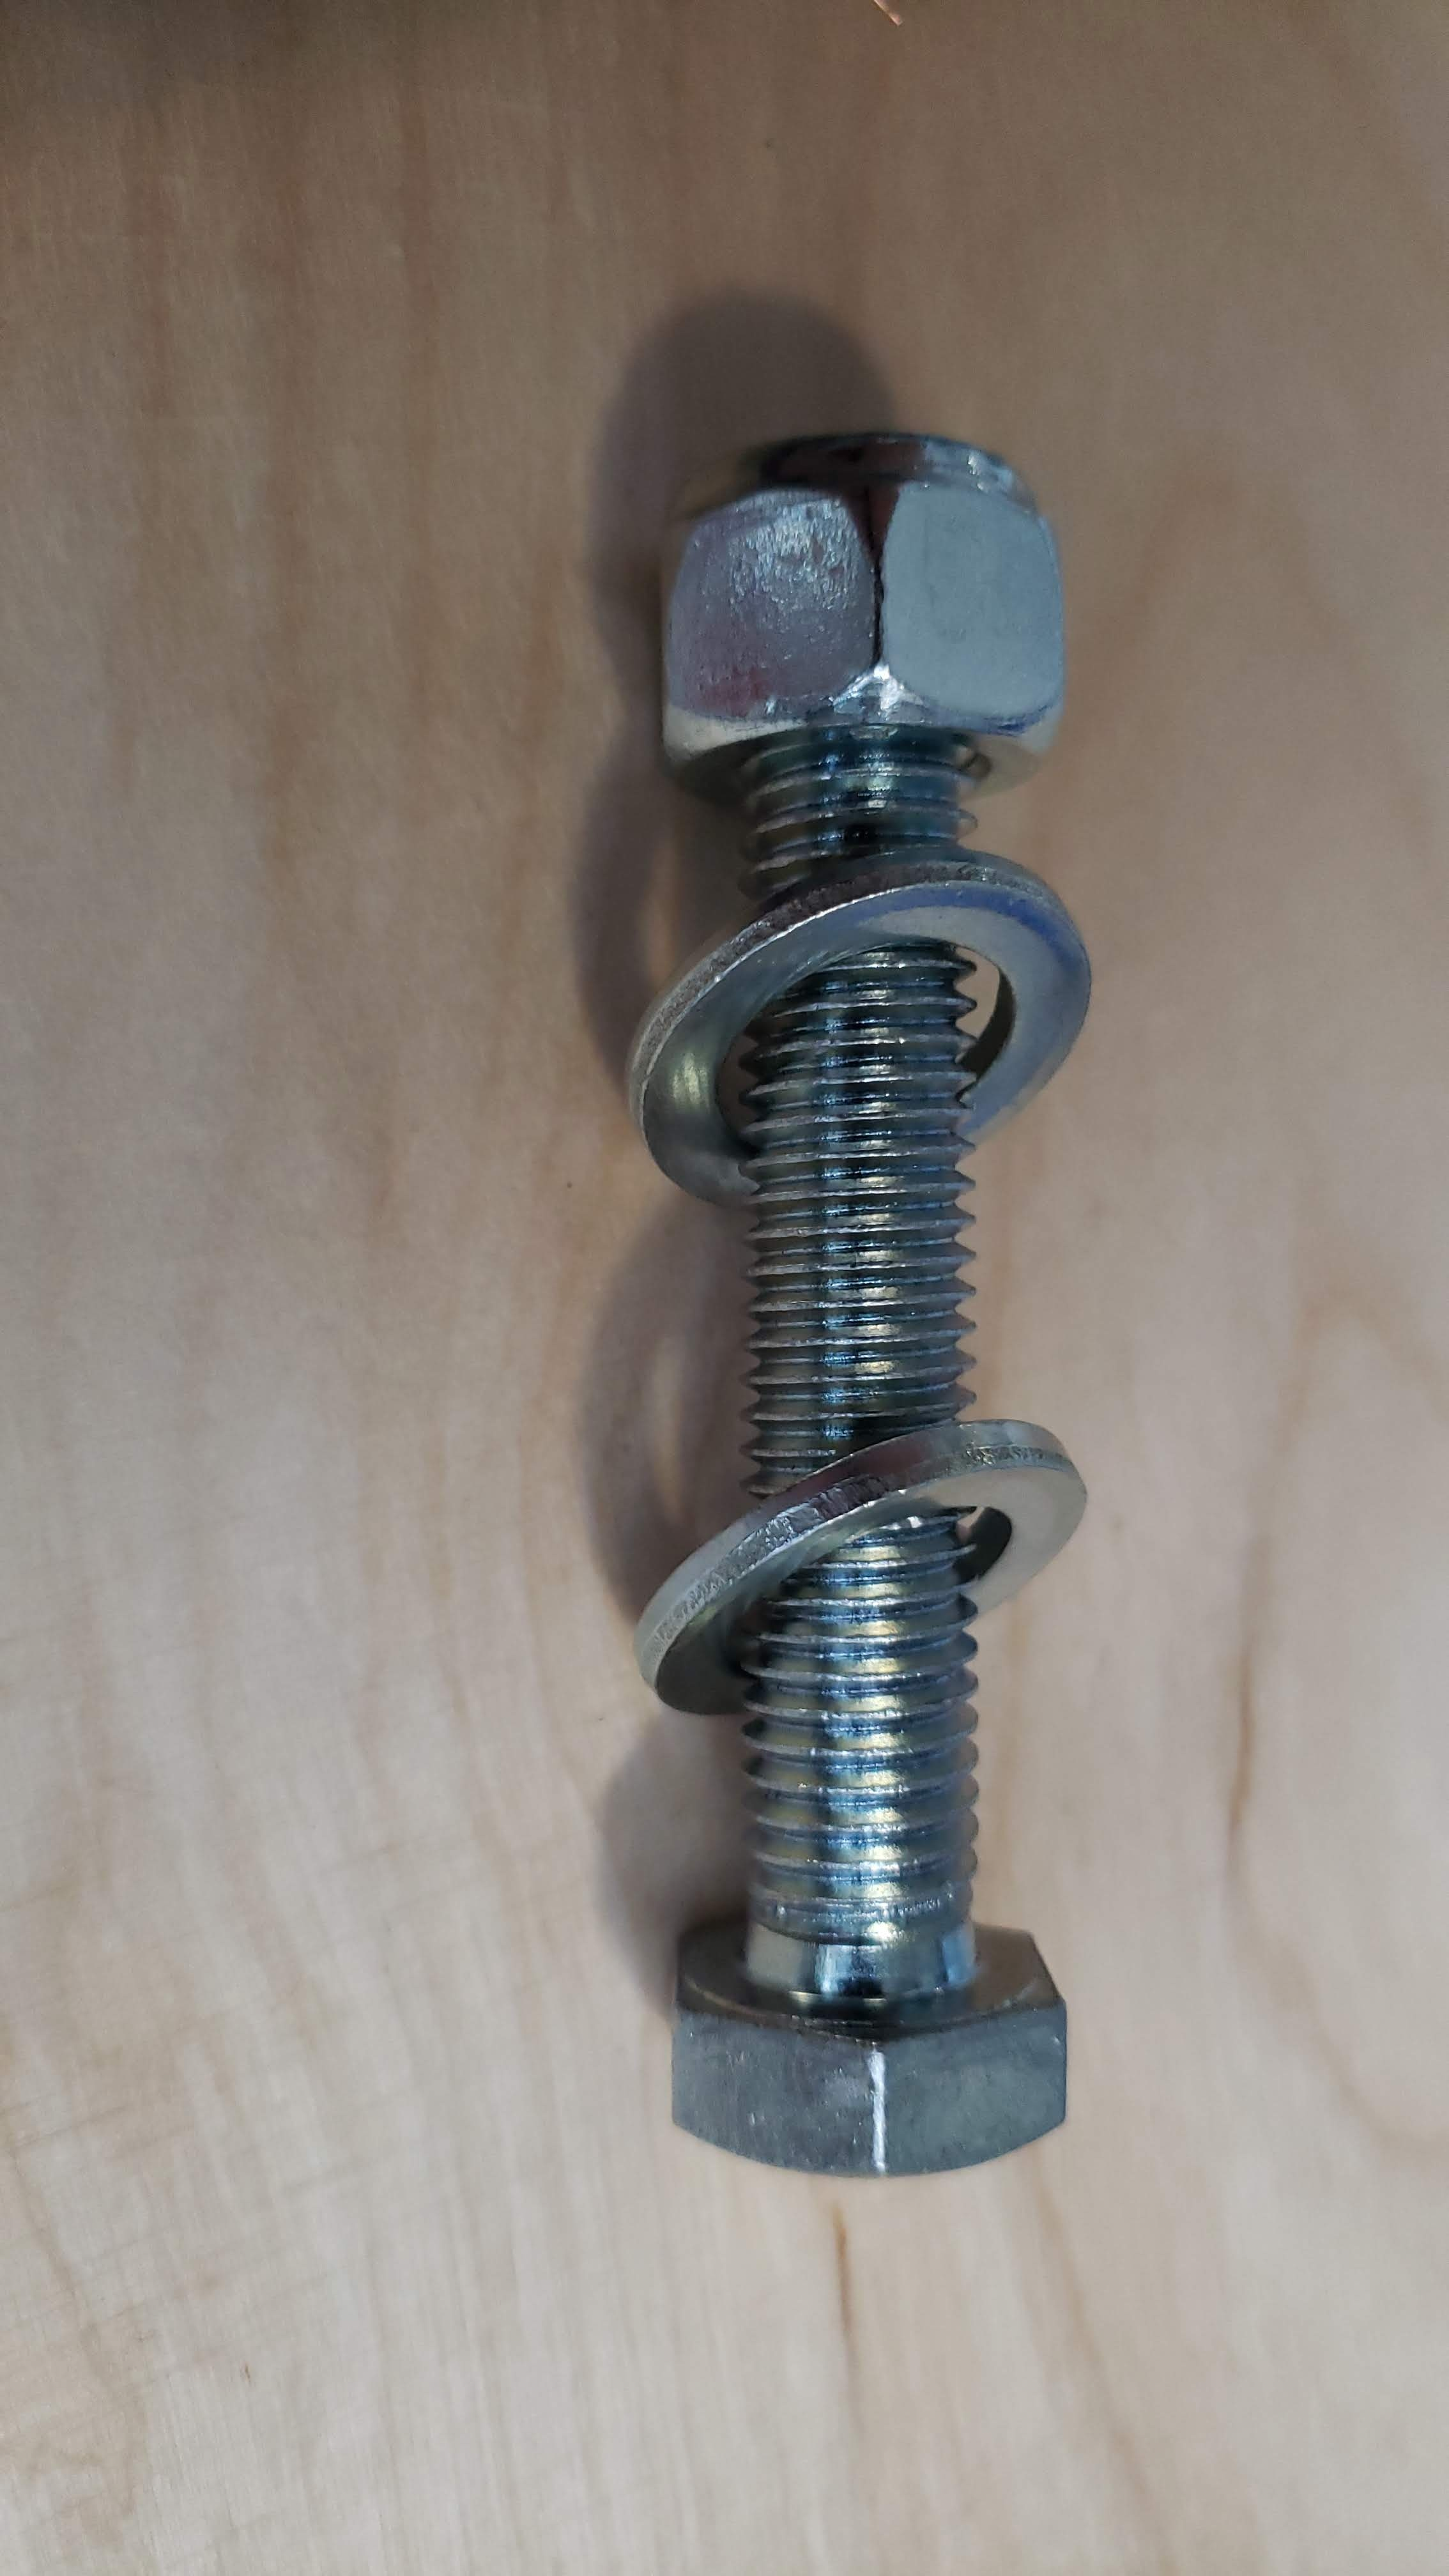FinishedAssembly: (499, 409, 1203, 2279)
